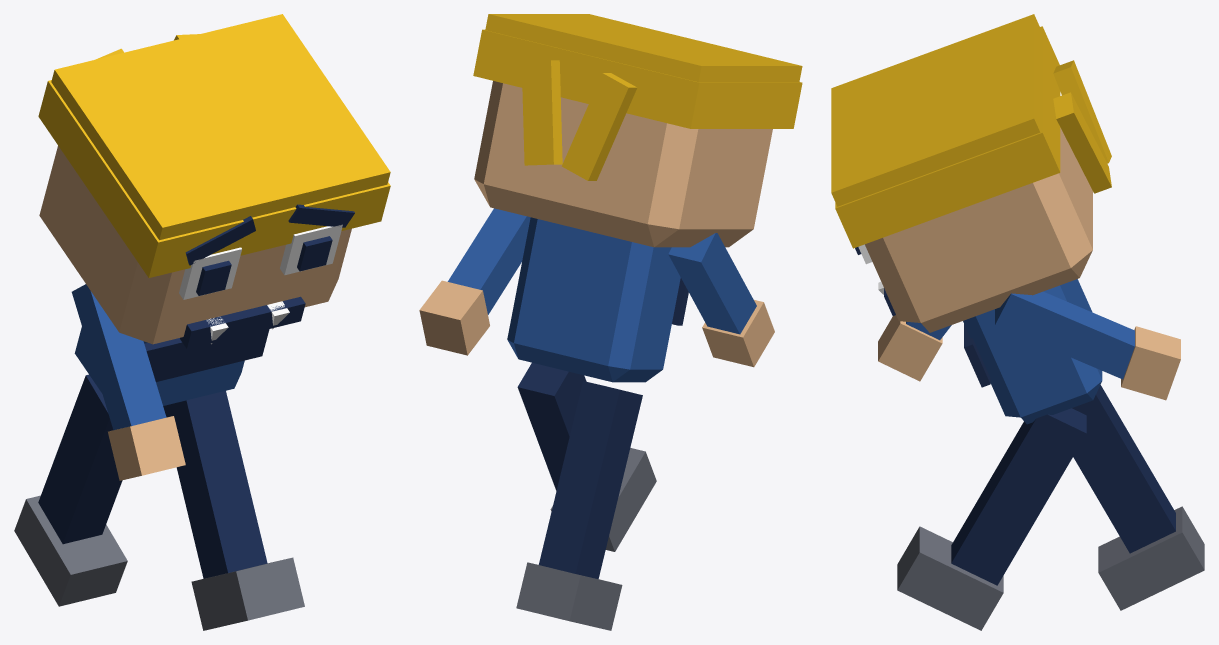
The model's file is scout_r13.glb.
3 views of the same model, side by side, from view 1: azimuth 30°, elevation 25°; view 2: azimuth 150°, elevation 25°; view 3: azimuth 270°, elevation 25° (orthographic). The views are drawn at different scales.
Visible parts, largest first — view 1: scout_r13_mesh; view 2: scout_r13_mesh; view 3: scout_r13_mesh.
Part boxes in pixels (x1=…): scout_r13_mesh: x1=14, y1=14, x2=390, y2=630; scout_r13_mesh: x1=419, y1=14, x2=802, y2=630; scout_r13_mesh: x1=831, y1=14, x2=1204, y2=630.
Size of the model in its own units: 0.5007 by 1.2 by 0.7418.
Materials: 1 (1 with a texture image).
